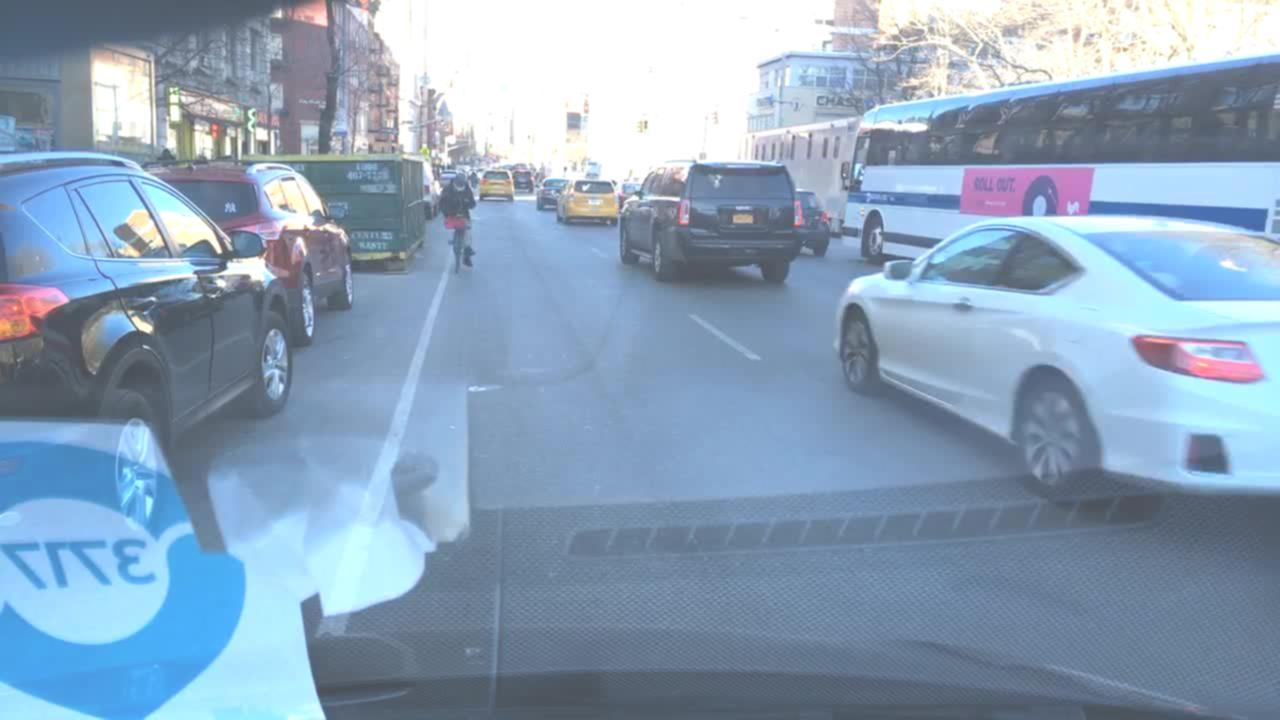GMC: (728, 200, 759, 214)
